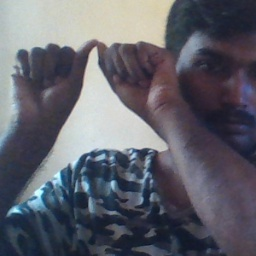A: (10, 39, 182, 130)
